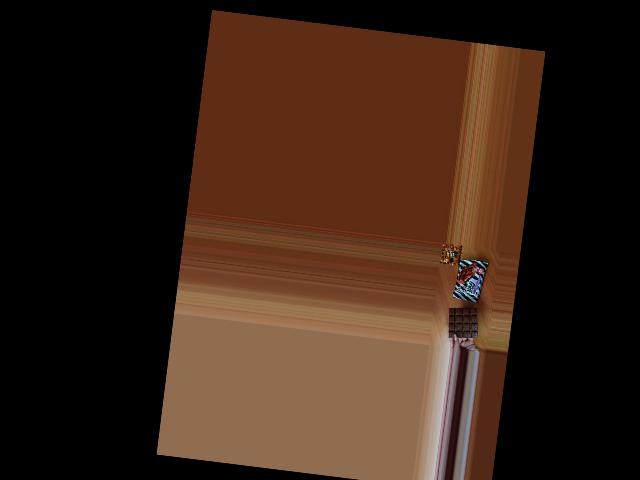chocolate: (453, 255, 487, 305)
